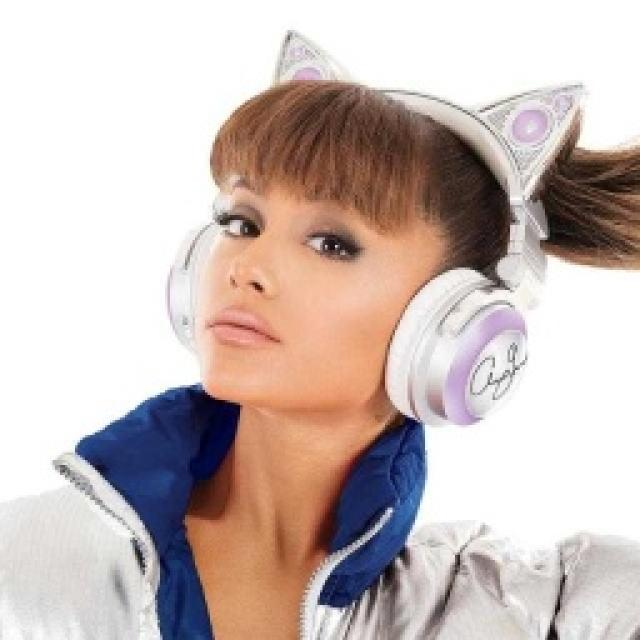headphones: (163, 72, 585, 428)
